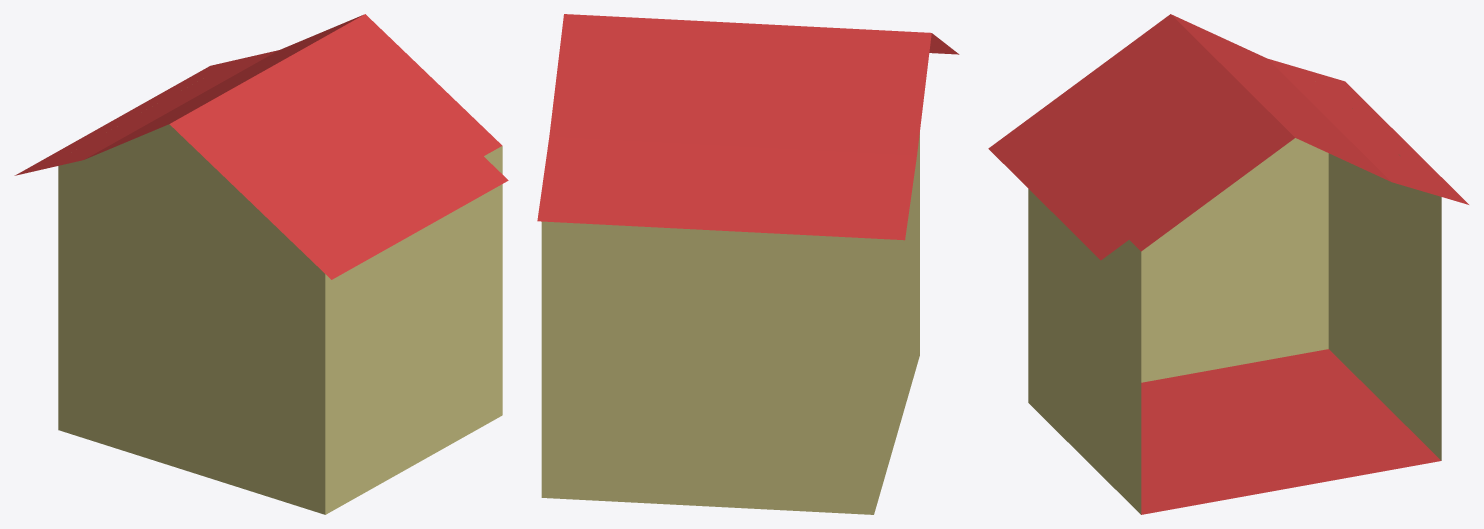
3 renders of one model, left to right at view 1: azimuth 30°, elevation 25°; view 2: azimuth 150°, elevation 25°; view 3: azimuth 270°, elevation 25°, orthographic. The views are drawn at different scales.
Size of the model in its own units: 14.1 by 15.69 by 12.56.
